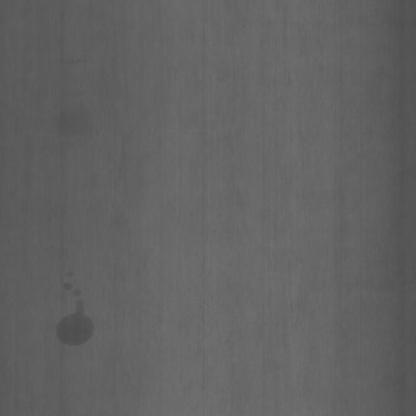oil_spot: (50, 271, 98, 365)
